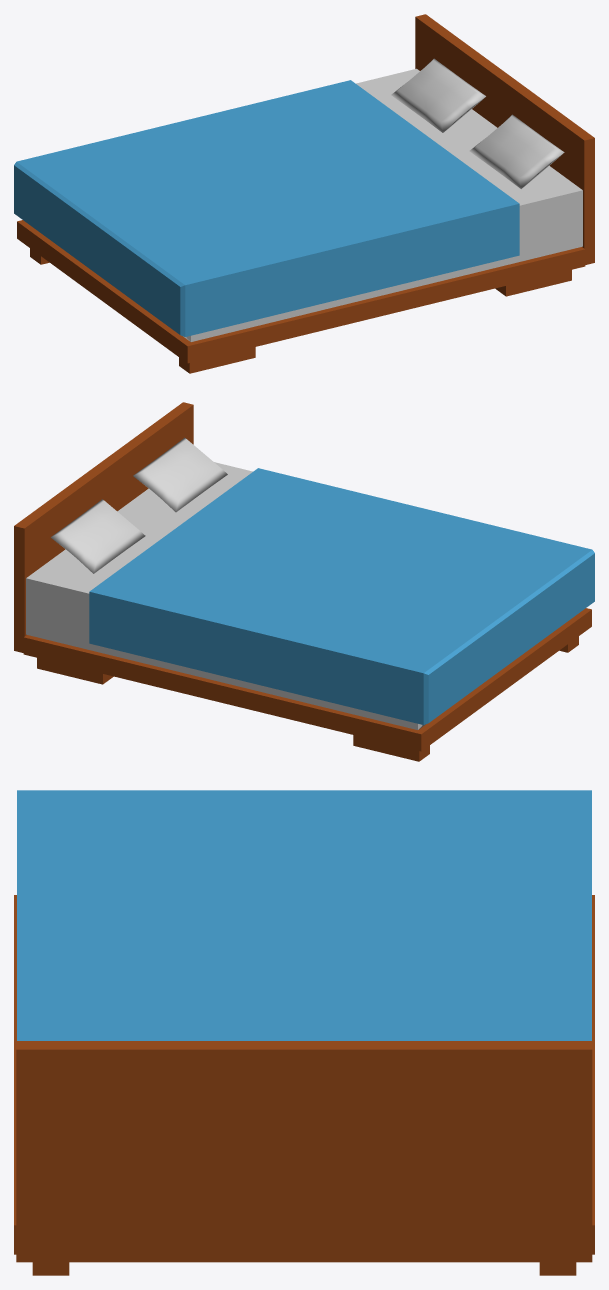
The model's file is Bed.fbx.
3 views of the same model, one above another, from view 1: azimuth 30°, elevation 25°; view 2: azimuth 150°, elevation 25°; view 3: azimuth 270°, elevation 25° (orthographic). The views are drawn at different scales.
Visible parts, largest first — view 1: Bed, Pillow2, Pillow1; view 2: Bed, Pillow2, Pillow1; view 3: Bed.
Part boxes in pixels (left/top/right/bottom): Bed: left=14, top=14, right=594, bottom=373; Pillow2: left=469, top=114, right=564, bottom=188; Pillow1: left=391, top=58, right=485, bottom=132; Bed: left=14, top=402, right=594, bottom=761; Pillow2: left=133, top=437, right=227, bottom=512; Pillow1: left=51, top=499, right=145, bottom=573; Bed: left=14, top=790, right=594, bottom=1275.
Size of the model in its own units: 919 by 301 by 657.
